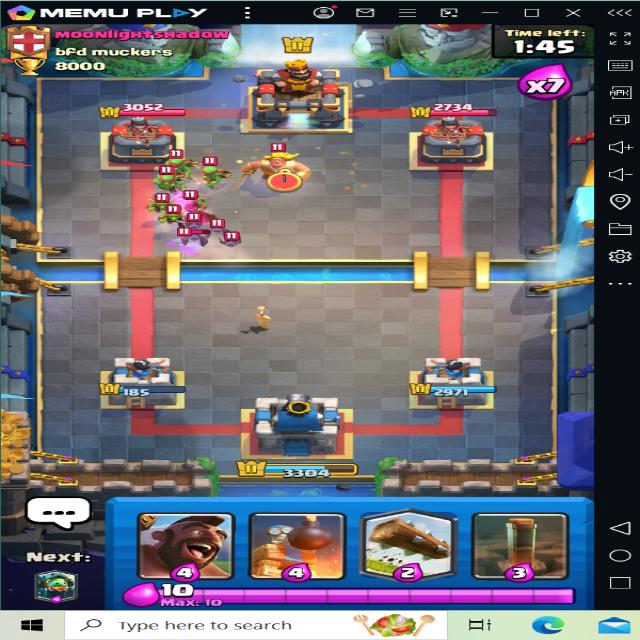bats: (212, 232, 252, 250), (169, 230, 211, 247)
goblin: (144, 190, 180, 216), (158, 205, 193, 227)
golden-knight: (237, 142, 319, 188)
spear-goblin: (192, 154, 234, 188), (152, 166, 184, 194), (163, 151, 194, 174)
